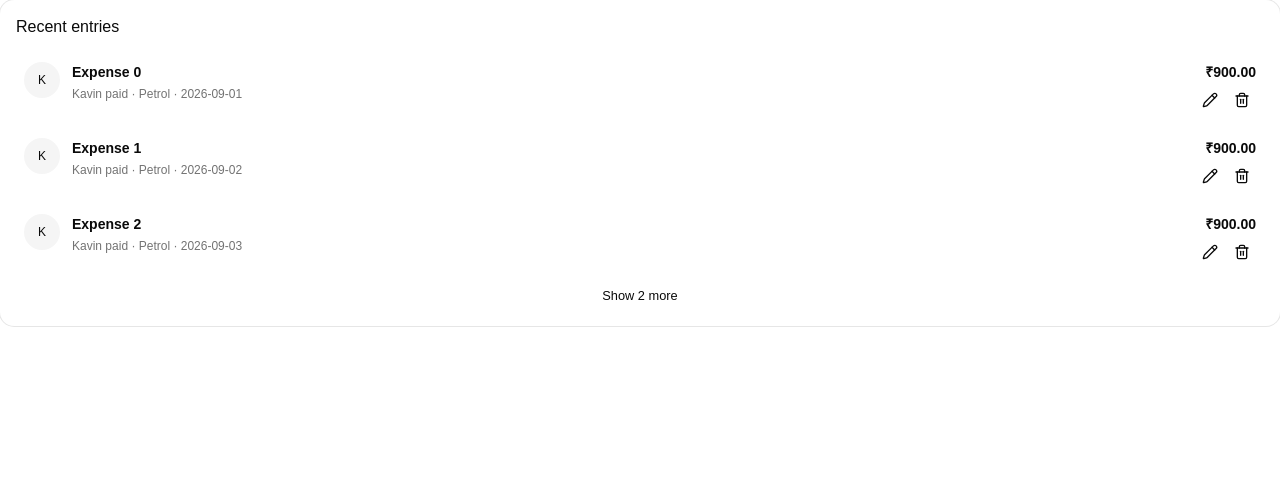
Test: ExpenseList › progressive disclosure › reveals the rest on click, then collapses back on a second click
Click the button "Show 2 more" at (640, 296), box [591,282,689,310]
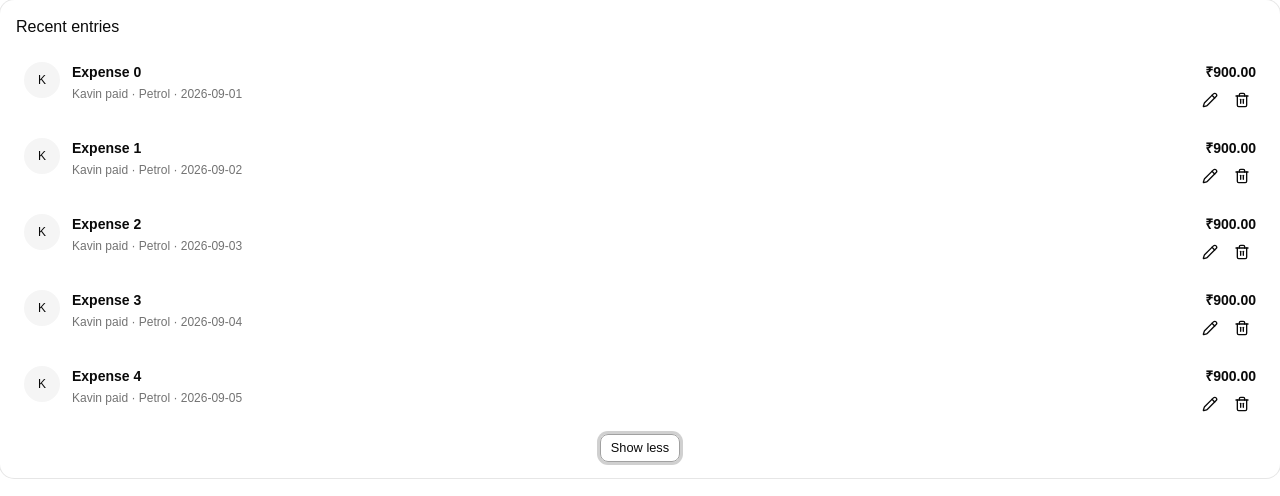
Now the text "Expense 3" is shown, box [72,292,141,308]
Now the text "Expense 4" is shown, box [72,368,141,384]
Click the button "Show less" at (640, 448), box [600,434,680,462]
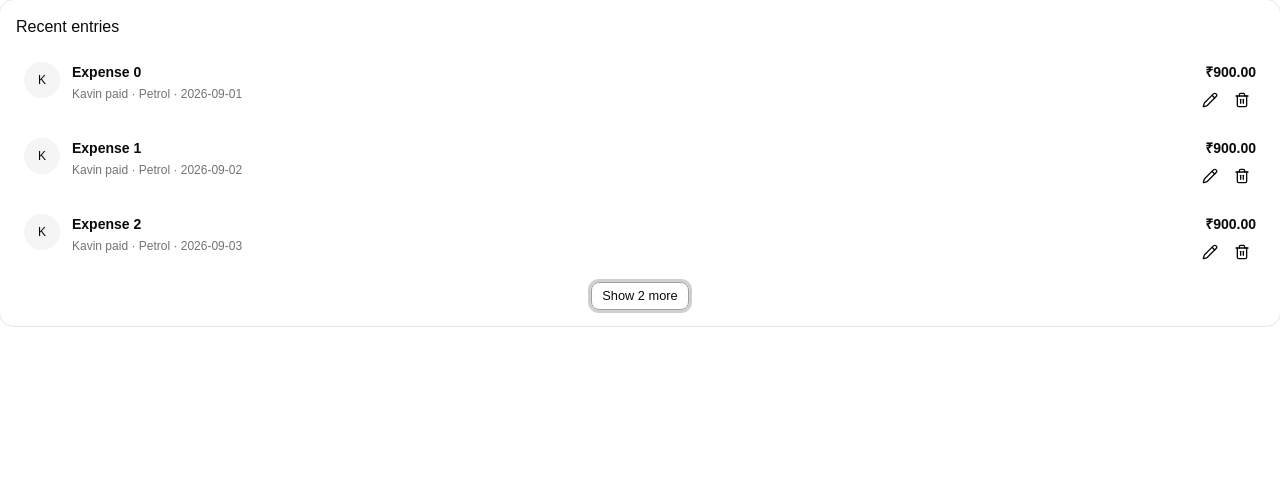
Now the button "Expense 3" is gone
Now the button "Expense 4" is gone
